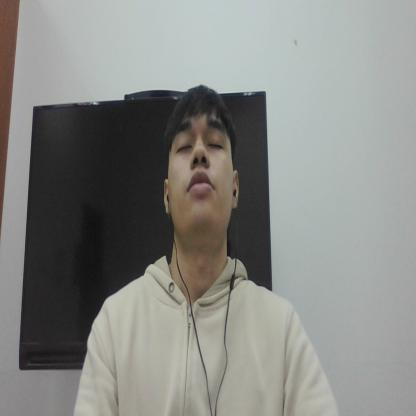Closed-Eyes: (169, 129, 228, 157)
